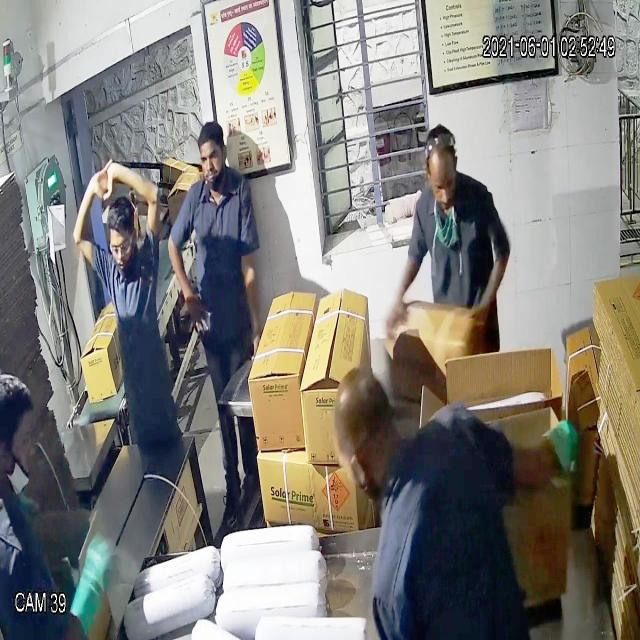glasses: (104, 230, 136, 262)
no-glass: (194, 141, 232, 176)
